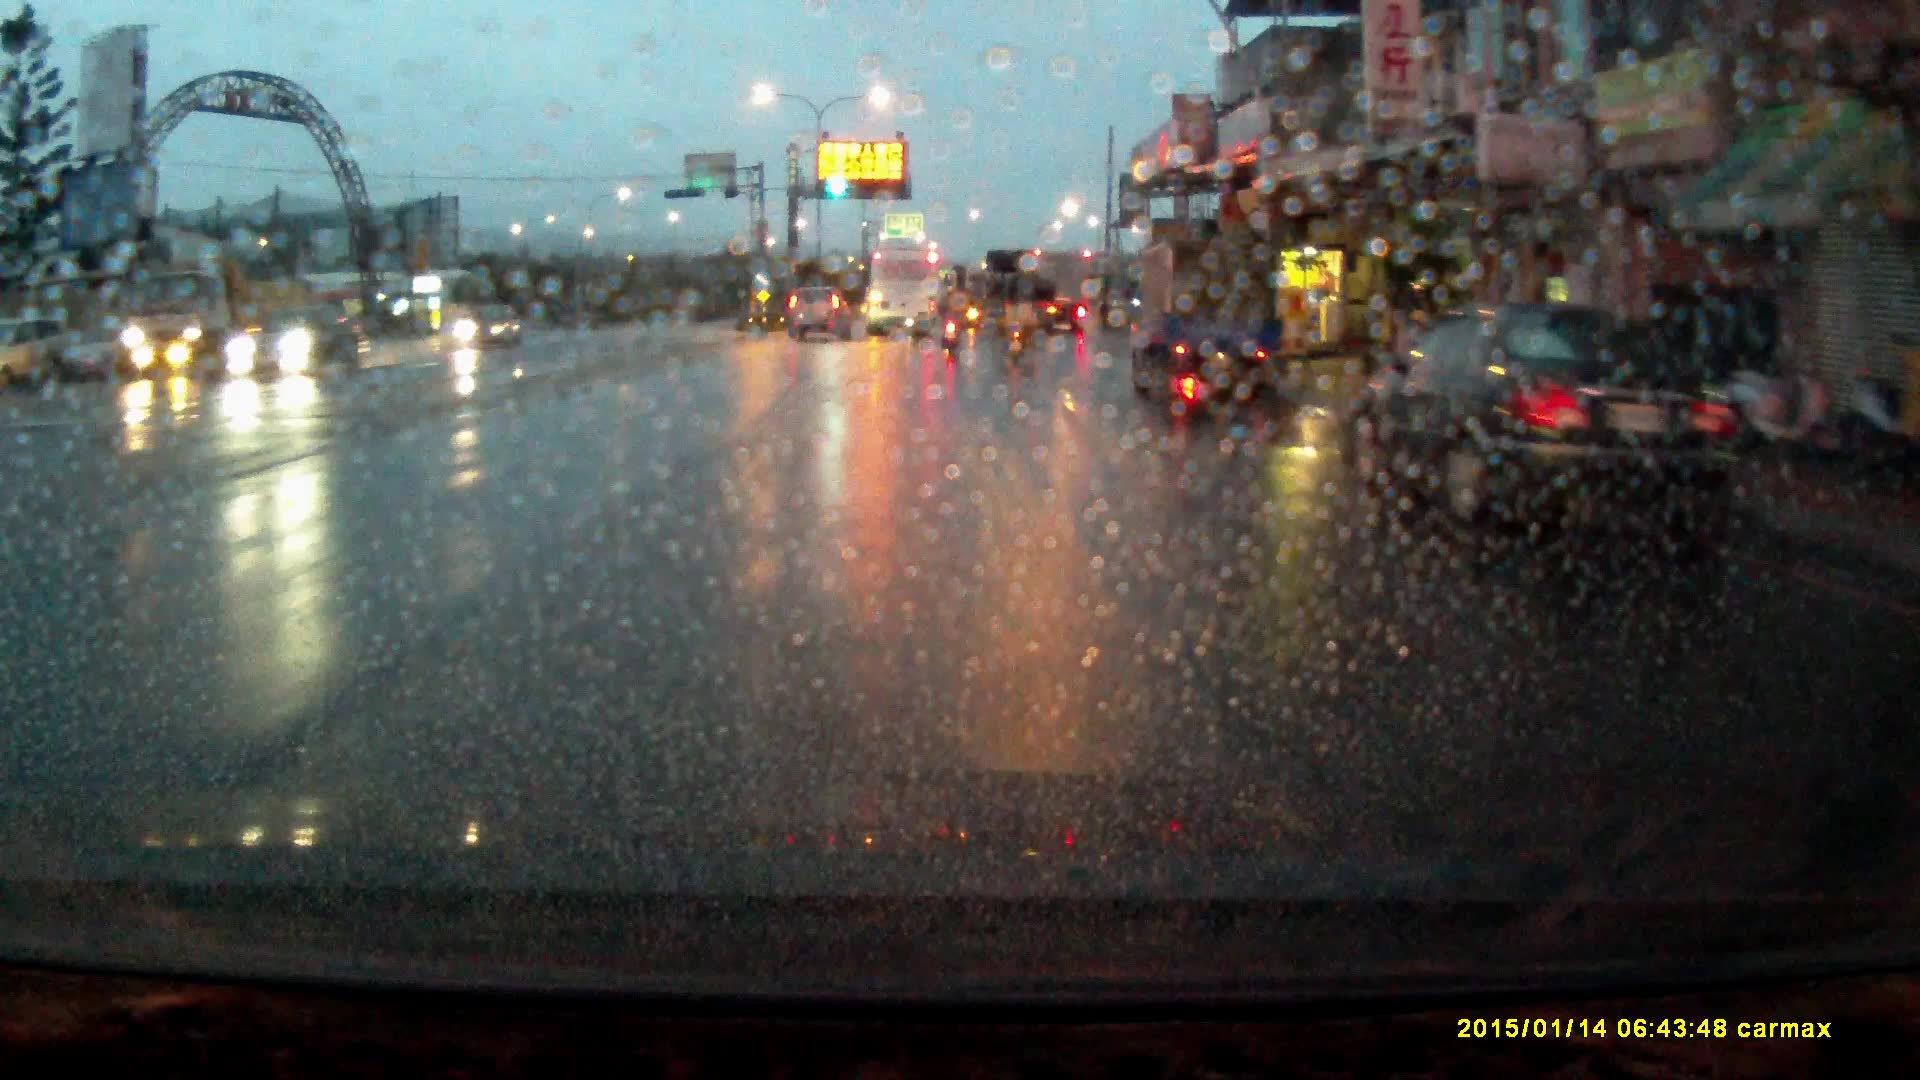rider: (998, 276, 1035, 359), (935, 285, 969, 355)
vehicle: (1358, 299, 1763, 540), (125, 254, 339, 374), (1127, 233, 1283, 385), (225, 311, 368, 383), (1, 310, 90, 390), (869, 246, 939, 338), (989, 252, 1056, 339), (446, 301, 528, 349), (788, 277, 853, 338)
